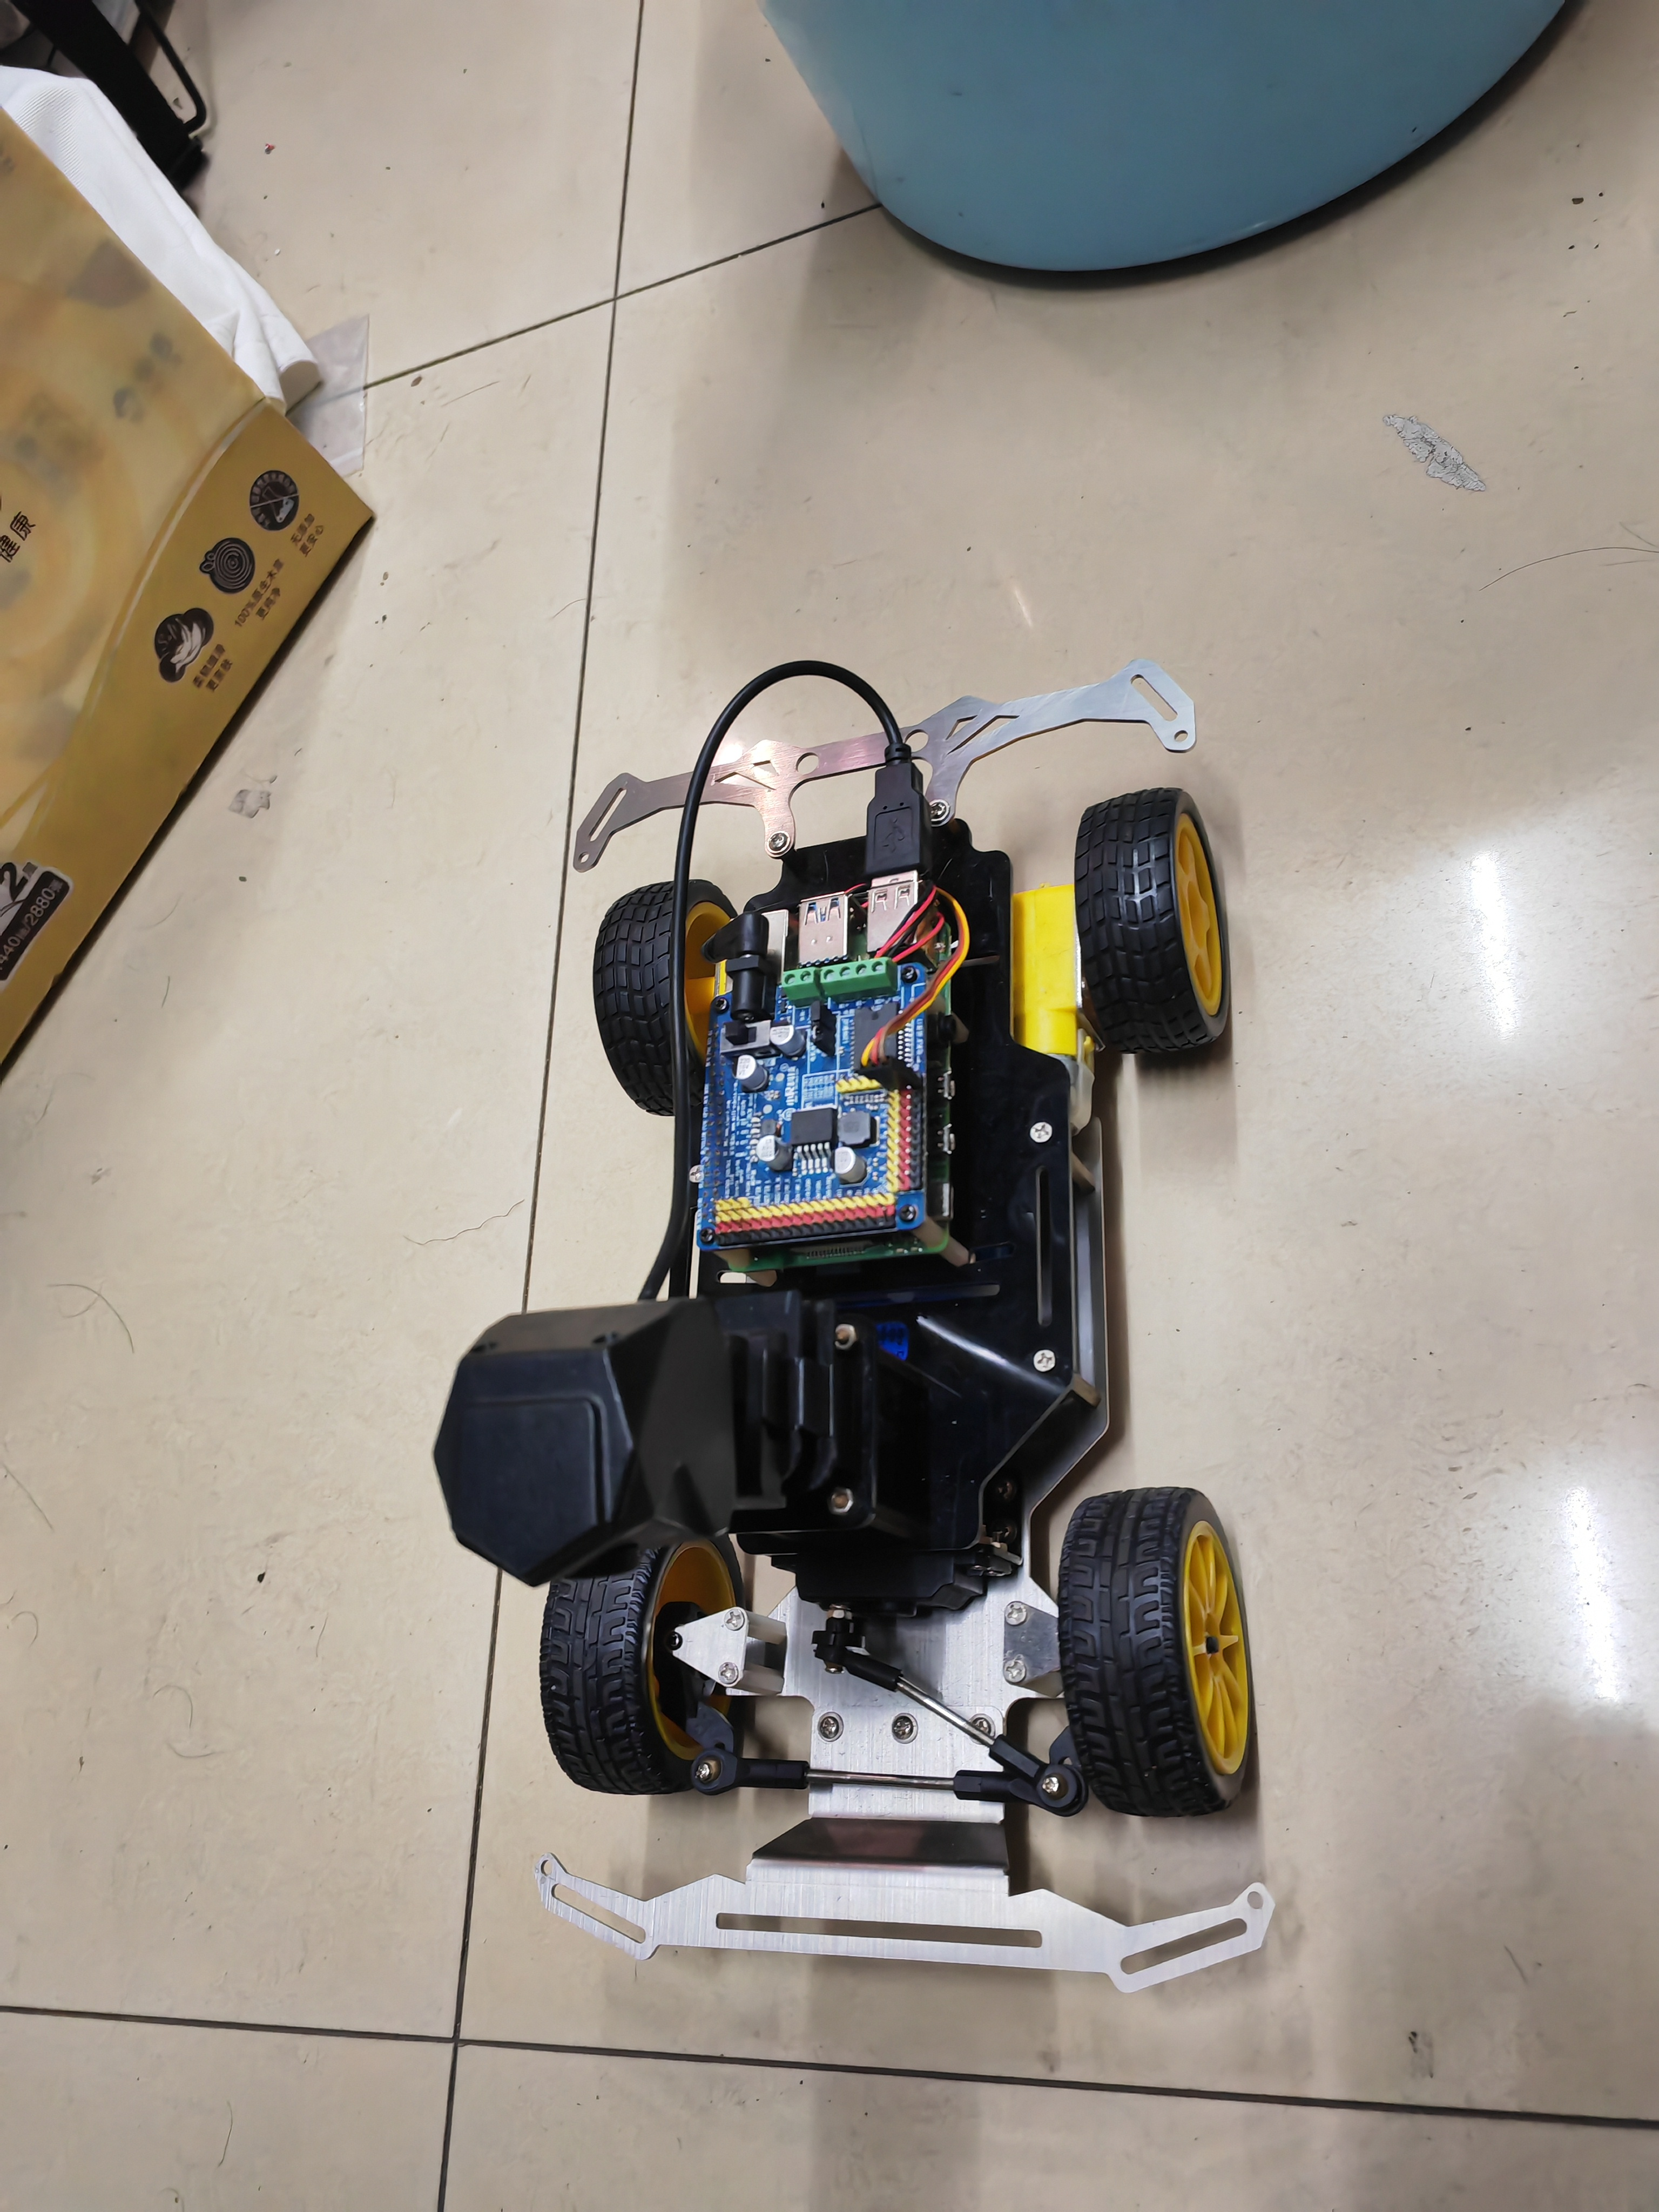car: (418, 608, 1330, 2015)
